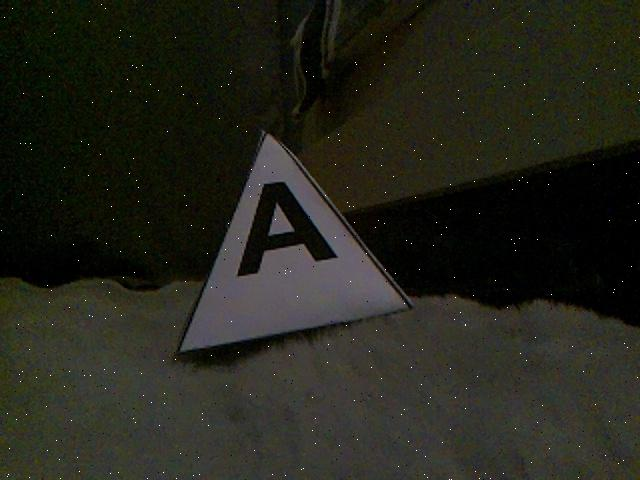A: (176, 130, 403, 353)
